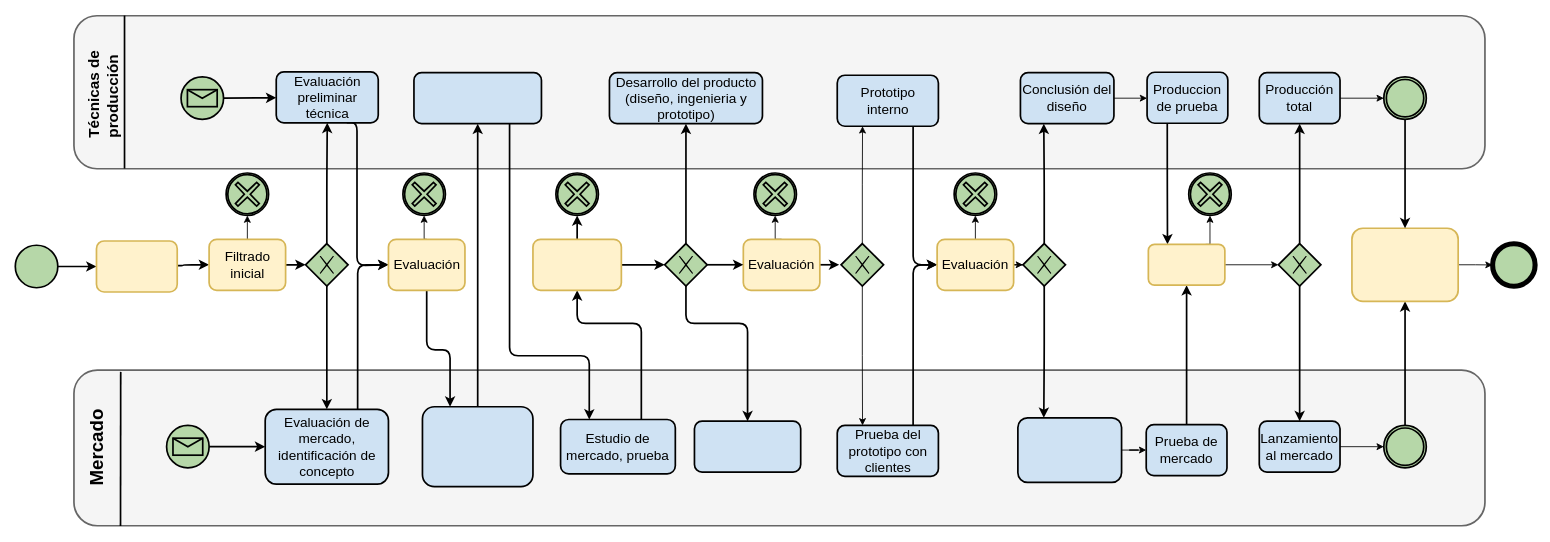
Image size: 1550x542. Some labels were removed from this diagram. Here are the shapes that lost their labels. From the top down, the box of each, then its label:
(413, 71, 542, 124): Generación del concepto técnico
(95, 240, 178, 292): Generacion de Idea
(532, 238, 622, 291): Evaluación del Concepto
(1147, 243, 1225, 286): Análisis de negocio
(1351, 227, 1459, 302): Evaluación y control después del lanzamiento
(421, 405, 533, 487): Estudio del mercado, identificación del concepto
(693, 420, 801, 473): Desarrollo del plan de mercado
(1017, 416, 1122, 483): Conclusión del plan de mercadotecnia
